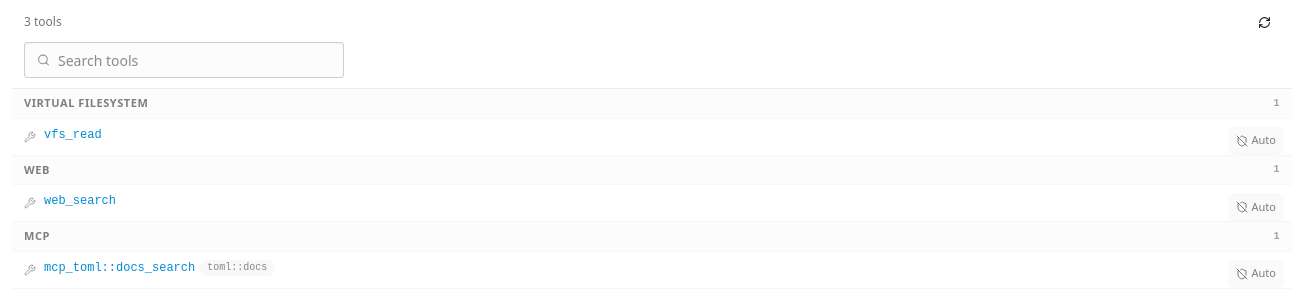
Scenario: ToolPanel › filters tools by name, description, and MCP server key
The width and height of the screenshot is (1292, 297).
Expected: the text "3 tools" is shown, [24,14,62,30]
Type "workspace" into the search field labelled "Search tools" at (194, 60), box [58,43,331,77]
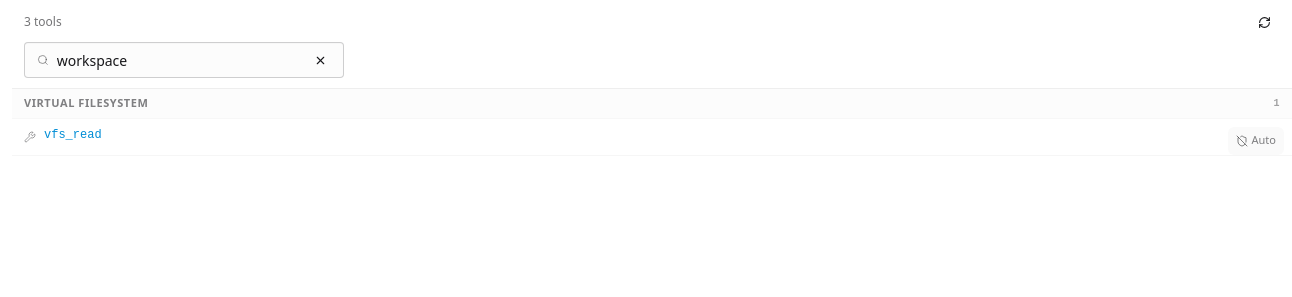
Expected: the text "vfs_read" is shown, [44,126,102,142]
Now the button "web_search" is gone
Replace the text in the search field named "Search tools" with "toml::docs" at (180, 60), box [57,43,303,77]
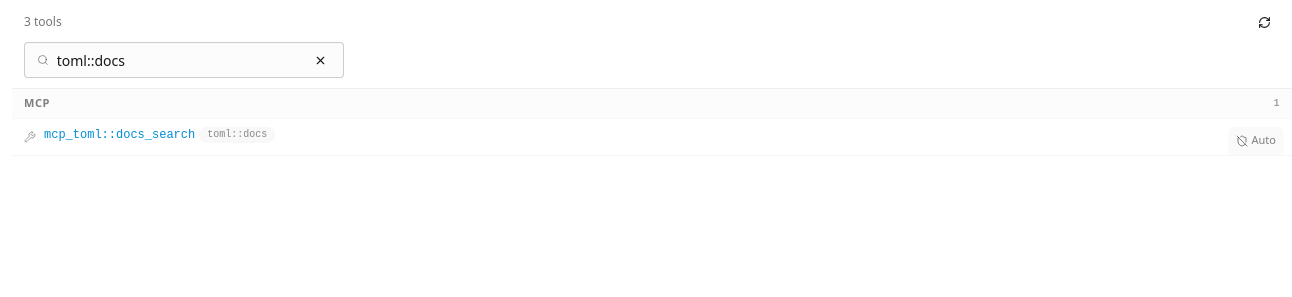
Now the text "mcp_toml::docs_search" is shown, box [44,126,195,142]
